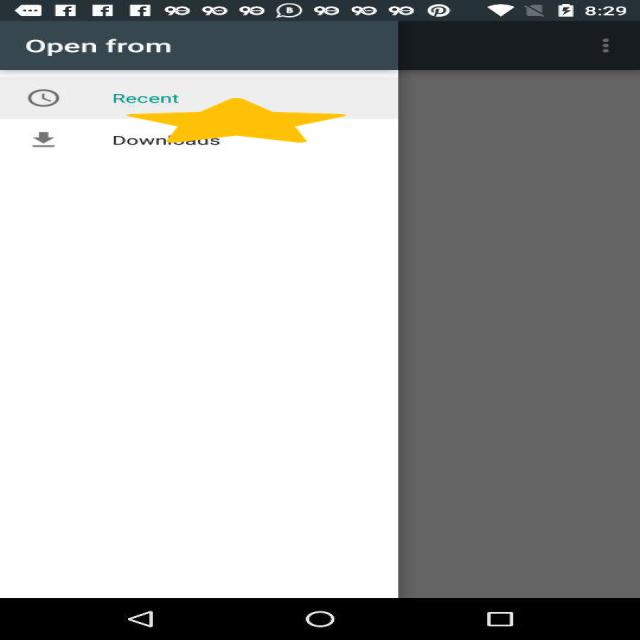forced continuity: (127, 98, 346, 143)
